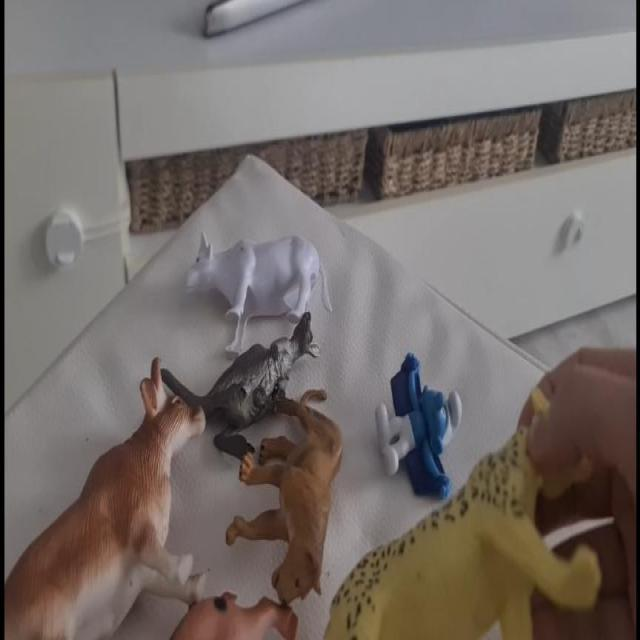hard-toy: (7, 360, 206, 640), (227, 391, 344, 605), (162, 314, 320, 459), (187, 235, 332, 354), (379, 354, 464, 499)
